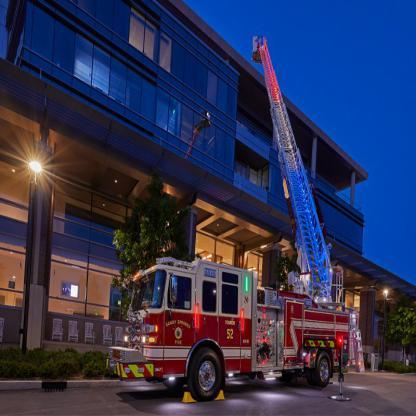fire-truck: (88, 204, 376, 416)
